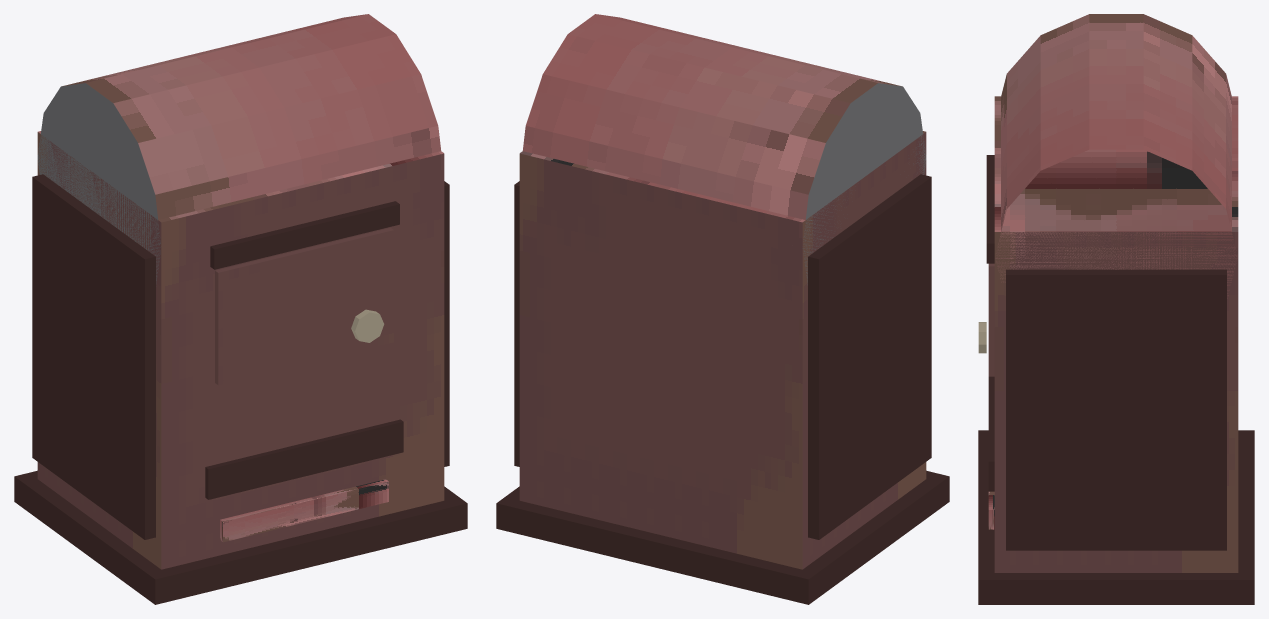
The model's file is Building_AncientPostbox.glb.
3 views of the same model, side by side, from view 1: azimuth 30°, elevation 25°; view 2: azimuth 150°, elevation 25°; view 3: azimuth 270°, elevation 25° (orthographic).
Parts seen in each view (by area): view 1: AncientPostbox; view 2: AncientPostbox; view 3: AncientPostbox.
Part boxes in pixels (x1,y1,x2,y2): AncientPostbox: [14, 14, 467, 604]; AncientPostbox: [496, 14, 949, 604]; AncientPostbox: [978, 14, 1254, 604].
Bounding box in the file's own units: 0.64 × 0.8945 × 0.5.
Materials: 1 (1 with a texture image).
